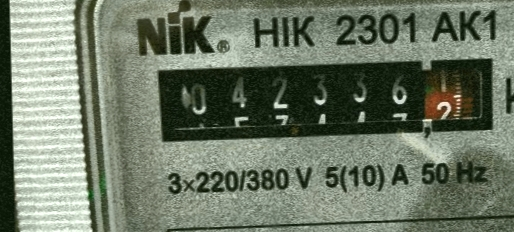0: (187, 83, 207, 119)
1: (434, 68, 448, 97)
2: (267, 77, 288, 114), (432, 102, 452, 123)
3: (308, 72, 328, 111), (346, 71, 367, 108)
4: (227, 75, 247, 113)
6: (385, 73, 408, 109)
screen: (148, 51, 502, 153)
